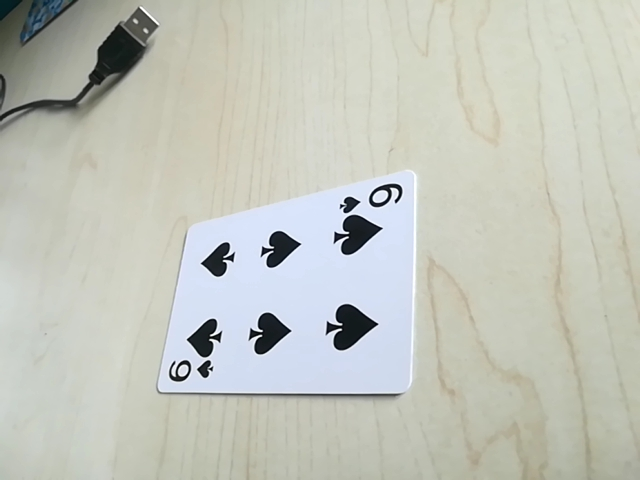ht 6: (337, 179, 405, 214), (161, 355, 217, 389)
